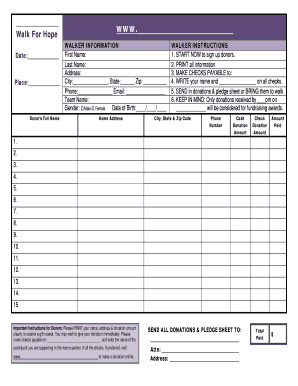checkbox: (90, 105, 96, 111), (81, 105, 85, 111)
textbox: (61, 49, 171, 63), (61, 66, 172, 79), (61, 58, 171, 71), (8, 181, 81, 199), (75, 157, 147, 175), (75, 297, 147, 315), (76, 145, 146, 163), (76, 192, 146, 210), (75, 286, 148, 303), (75, 169, 147, 186), (75, 239, 147, 256), (140, 297, 204, 316), (61, 93, 171, 104), (9, 298, 80, 315), (75, 180, 146, 197), (76, 228, 147, 245), (75, 251, 146, 268), (76, 263, 147, 280), (10, 193, 80, 210), (9, 216, 79, 233), (9, 228, 79, 245), (75, 275, 147, 291), (140, 203, 204, 221), (9, 275, 80, 291), (9, 286, 80, 302), (76, 205, 147, 221), (141, 250, 204, 268), (9, 146, 79, 162), (10, 159, 80, 175), (10, 170, 80, 186), (9, 240, 79, 256), (9, 263, 79, 279), (76, 135, 146, 151), (76, 216, 146, 232), (10, 134, 79, 150), (10, 252, 79, 268), (141, 169, 204, 186), (141, 228, 204, 245), (141, 263, 204, 280), (142, 146, 204, 163), (142, 158, 204, 175), (142, 180, 204, 197), (142, 239, 204, 256), (141, 274, 203, 291), (143, 216, 204, 233), (142, 286, 204, 302), (10, 206, 80, 220), (142, 193, 203, 209), (143, 135, 203, 150), (199, 239, 234, 257), (198, 228, 235, 245), (200, 145, 234, 163), (199, 250, 233, 268), (198, 216, 233, 233), (199, 286, 234, 303), (199, 203, 232, 221), (199, 169, 233, 186), (199, 274, 233, 291), (200, 133, 232, 151), (200, 298, 233, 315), (198, 263, 233, 279), (200, 181, 234, 197), (199, 158, 232, 174), (199, 193, 232, 209), (267, 322, 288, 347), (228, 298, 254, 315), (229, 180, 253, 198), (228, 204, 252, 222), (228, 250, 252, 268), (229, 263, 253, 281), (248, 250, 272, 268), (248, 297, 272, 315), (248, 169, 273, 186), (248, 180, 273, 197), (248, 263, 273, 280), (227, 240, 253, 256), (267, 145, 290, 163), (228, 193, 252, 210), (229, 286, 253, 303), (248, 157, 272, 174), (248, 228, 272, 245), (248, 286, 272, 303), (228, 275, 253, 291), (229, 157, 251, 175), (267, 262, 289, 280), (229, 134, 252, 151), (248, 134, 271, 151), (249, 146, 272, 163), (249, 216, 272, 233), (248, 274, 271, 291), (267, 157, 290, 174), (267, 204, 290, 221), (267, 251, 290, 268), (228, 146, 252, 162), (228, 228, 252, 244), (247, 204, 271, 220), (267, 274, 289, 291), (267, 285, 289, 302), (267, 298, 289, 315), (229, 170, 252, 186), (229, 216, 252, 232), (249, 193, 272, 209), (249, 239, 272, 255), (267, 181, 290, 197), (267, 193, 290, 209), (267, 216, 290, 232), (267, 169, 288, 186), (267, 228, 289, 244), (267, 239, 289, 255), (267, 134, 288, 150)
textline: (148, 334, 241, 344), (161, 346, 240, 355), (168, 356, 240, 363), (46, 337, 101, 345), (26, 49, 60, 61), (27, 76, 60, 88), (72, 77, 108, 87), (218, 77, 257, 86), (136, 104, 168, 114), (126, 88, 167, 95), (77, 88, 112, 96), (175, 104, 206, 113), (143, 77, 167, 86), (119, 77, 135, 86), (255, 96, 267, 104), (136, 103, 144, 113), (145, 105, 155, 113), (156, 105, 166, 112)
